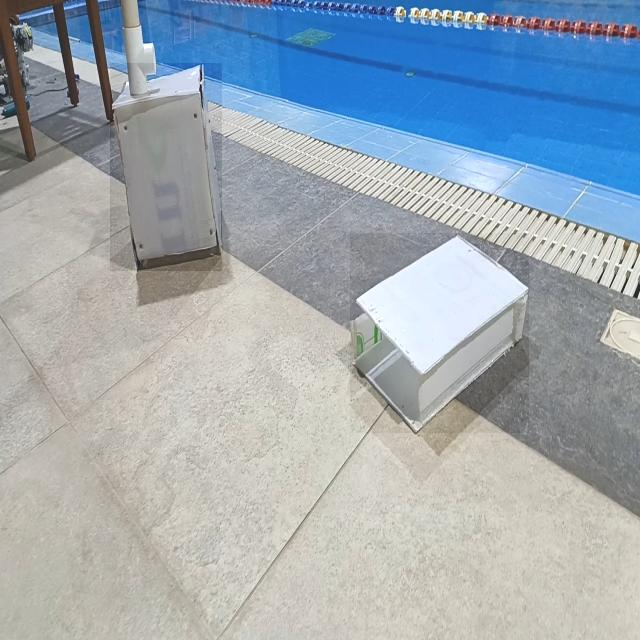Cube: (110, 64, 222, 272)
Cuboid: (350, 233, 529, 433)
